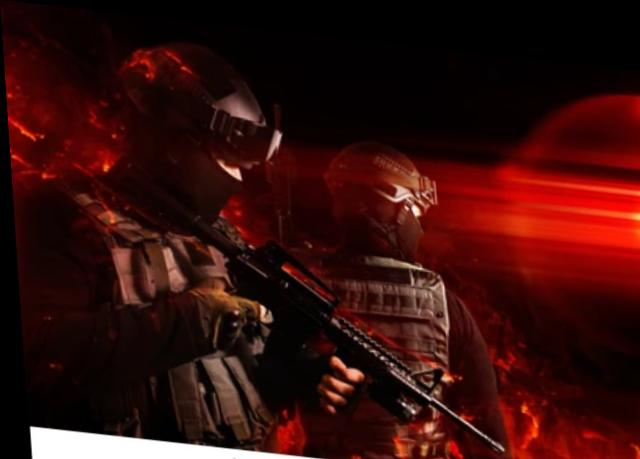other: (23, 29, 300, 436), (281, 123, 499, 458)
